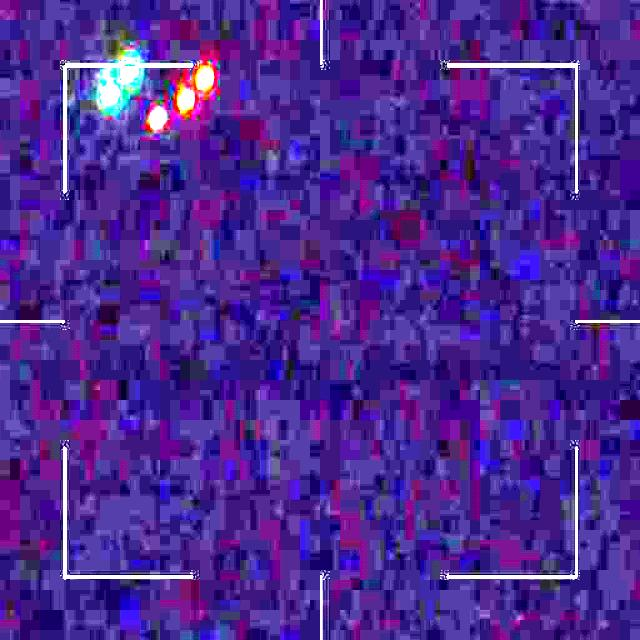bird: (101, 58, 214, 126)
